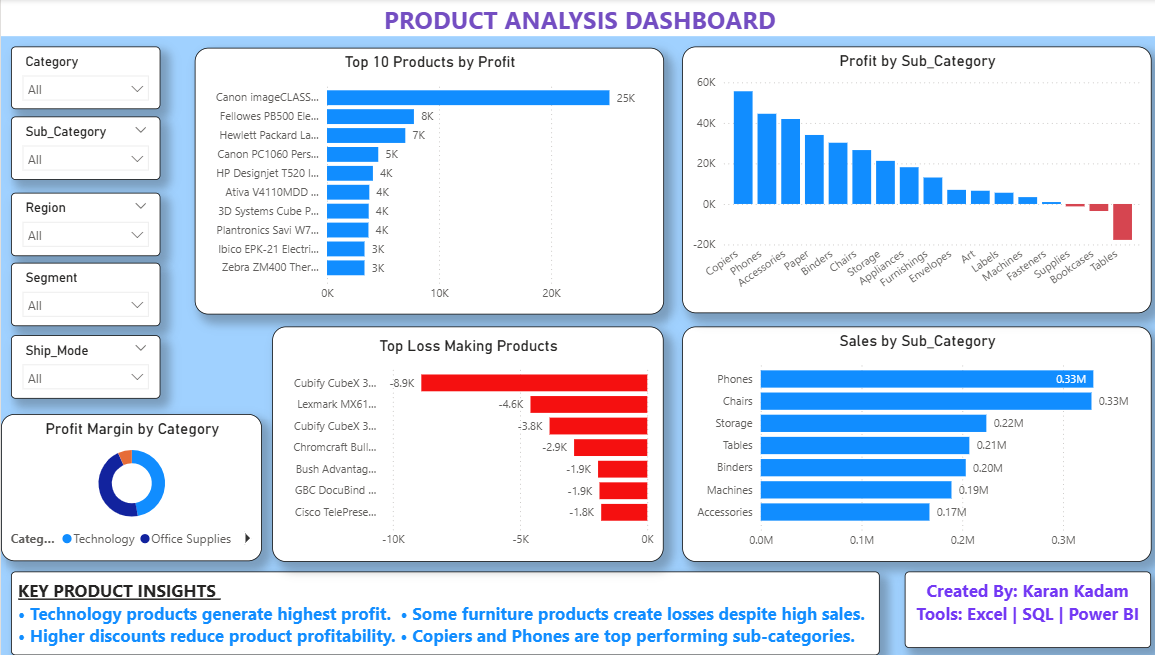

The dashboard page shown, as its layout file describes it:
{"tool":"powerbi","page":{"name":"Product Analysis","canvas":[1280,720],"ordinal":1},"visuals":[{"type":"clusteredBarChart","title":"Top 10 Products by Profit","fields":{"Category":["Superstore_Cleaned.Product_Name"],"Y":["Superstore_Cleaned.Total Profit"]},"box":[212.3,53.1,515.2,293.2],"z":0},{"type":"barChart","title":" Sales by Sub_Category","fields":{"Category":["Superstore_Cleaned.Sub_Category"],"Y":["Superstore_Cleaned.Total Sales"]},"box":[748,359.5,515.2,258.2],"z":1000},{"type":"columnChart","title":"Profit by Sub_Category","fields":{"Category":["Superstore_Cleaned.Sub_Category"],"Y":["Superstore_Cleaned.Total Profit"]},"box":[748,51.9,515.2,293.2],"z":2000},{"type":"donutChart","title":"Profit Margin by Category","fields":{"Category":["Superstore_Cleaned.Category"],"Y":["Superstore_Cleaned.Profit Margin %"]},"box":[0,455.6,286.8,161.9],"z":3000},{"type":"textbox","box":[11,628.5,953.7,91.9],"z":4000},{"type":"slicer","fields":{"Values":["Superstore_Cleaned.Category"]},"box":[10.9,51.9,164.1,68.8],"z":5000},{"type":"slicer","fields":{"Values":["Superstore_Cleaned.Sub_Category"]},"box":[10.9,129.1,164.1,70],"z":6000},{"type":"slicer","fields":{"Values":["Superstore_Cleaned.Region"]},"box":[10.9,212.3,164.1,70],"z":7000},{"type":"slicer","fields":{"Values":["Superstore_Cleaned.Segment"]},"box":[10.9,289.5,164.1,70],"z":8000},{"type":"slicer","fields":{"Values":["Superstore_Cleaned.Ship_Mode"]},"box":[10.9,369.2,164.1,70],"z":9000},{"type":"textbox","box":[0,0,1280,41],"z":10000},{"type":"barChart","title":"Top Loss Making Products","fields":{"Category":["Superstore_Cleaned.Product_Name"],"Y":["Superstore_Cleaned.Total Profit"]},"box":[298,359.5,429.5,258.2],"z":11000},{"type":"textbox","box":[992.1,628.5,270.3,83.7],"z":12000}]}

Visuals, with their boxes in screenshot pixels (x1, y1, x2, y2), scaled from the page's 1280x720 canvas onto the 1155x655 screenshot:
"Top 10 Products by Profit" clusteredBarChart: rect(192, 48, 656, 315)
" Sales by Sub_Category" barChart: rect(675, 327, 1140, 562)
"Profit by Sub_Category" columnChart: rect(675, 47, 1140, 314)
"Profit Margin by Category" donutChart: rect(0, 414, 259, 562)
textbox: rect(10, 572, 870, 654)
slicer - Superstore_Cleaned.Category: rect(10, 47, 158, 110)
slicer - Superstore_Cleaned.Sub_Category: rect(10, 117, 158, 181)
slicer - Superstore_Cleaned.Region: rect(10, 193, 158, 257)
slicer - Superstore_Cleaned.Segment: rect(10, 263, 158, 327)
slicer - Superstore_Cleaned.Ship_Mode: rect(10, 336, 158, 400)
textbox: rect(0, 0, 1154, 37)
"Top Loss Making Products" barChart: rect(269, 327, 656, 562)
textbox: rect(895, 572, 1139, 648)
